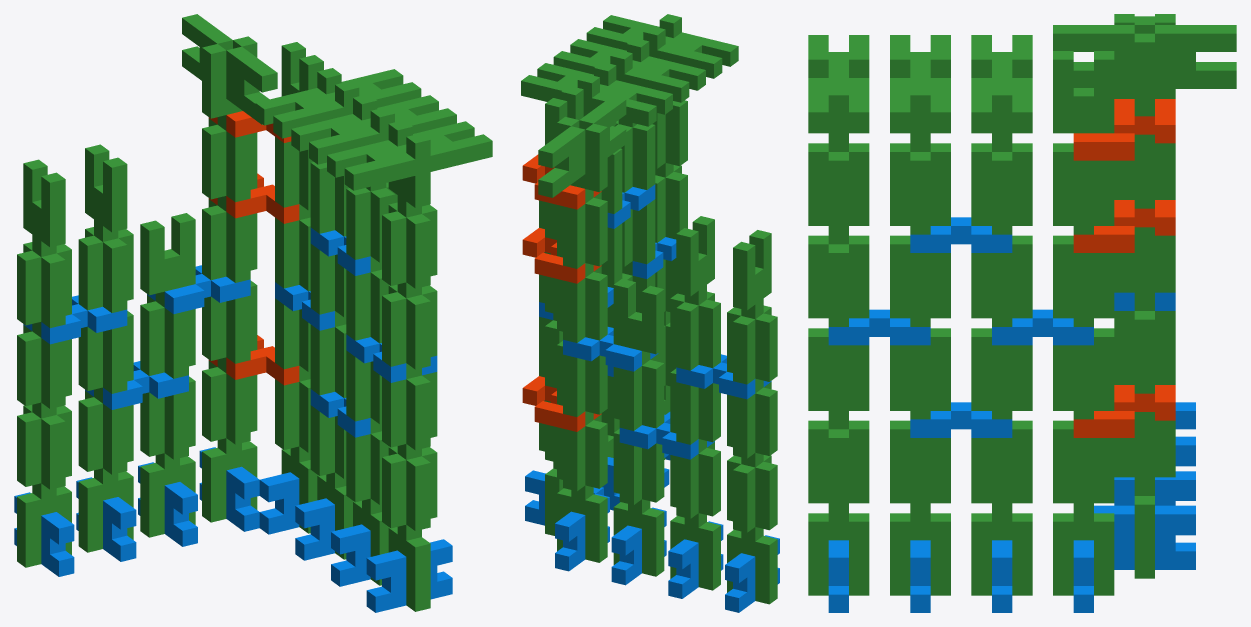
3 renders of one model, left to right at view 1: azimuth 30°, elevation 25°; view 2: azimuth 150°, elevation 25°; view 3: azimuth 270°, elevation 25°, orthographic. The views are drawn at different scales.
Visible parts, largest first — view 1: H_SIM (×40), X_SIM (×15), L_SIM (×3); view 2: H_SIM (×36), X_SIM (×11), L_SIM (×3); view 3: H_SIM (×29), X_SIM (×13), L_SIM (×3).
Part boxes in pixels (x1,y1,x2,y2): H_SIM (×40): (17, 14, 492, 611); X_SIM (×15): (14, 227, 452, 612); L_SIM (×3): (208, 111, 299, 385); H_SIM (×36): (521, 14, 777, 604); X_SIM (×11): (525, 184, 779, 612); L_SIM (×3): (522, 154, 601, 431); H_SIM (×29): (808, 16, 1236, 595); X_SIM (×13): (828, 217, 1195, 612); L_SIM (×3): (1073, 99, 1175, 437).
Bounding box in the file's own units: 2.73 × 3.77 × 2.73.
